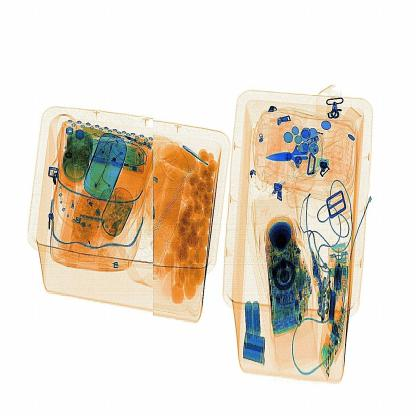gun: (258, 133, 318, 181)
